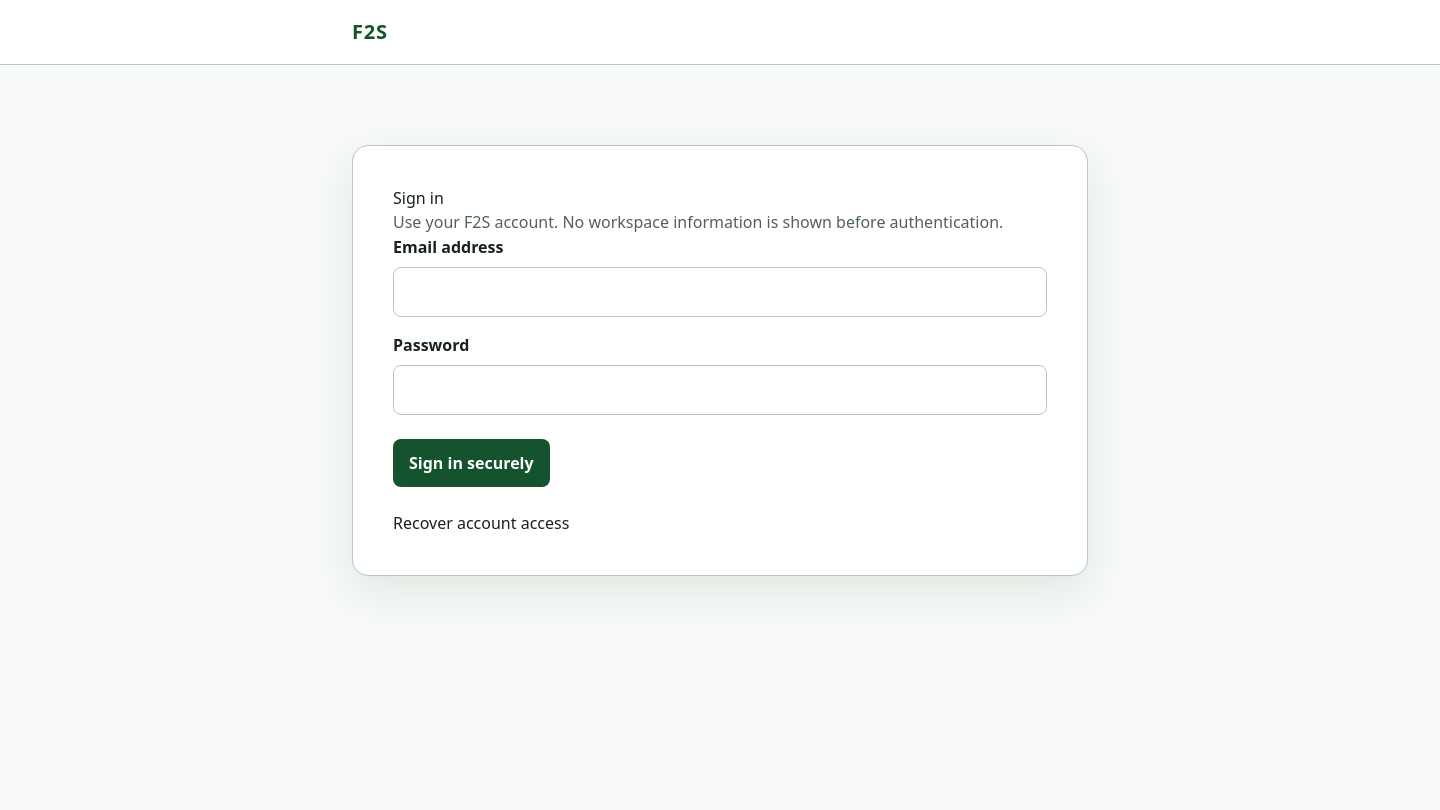
Test case: authentication and protected routing › does not expose restricted Admin or report navigation to a Contributor
Type "member@example.invalid" into the field labelled "Email address".
click(720, 292); type("member@example.invalid")  # box left=393, top=267, right=1047, bottom=317
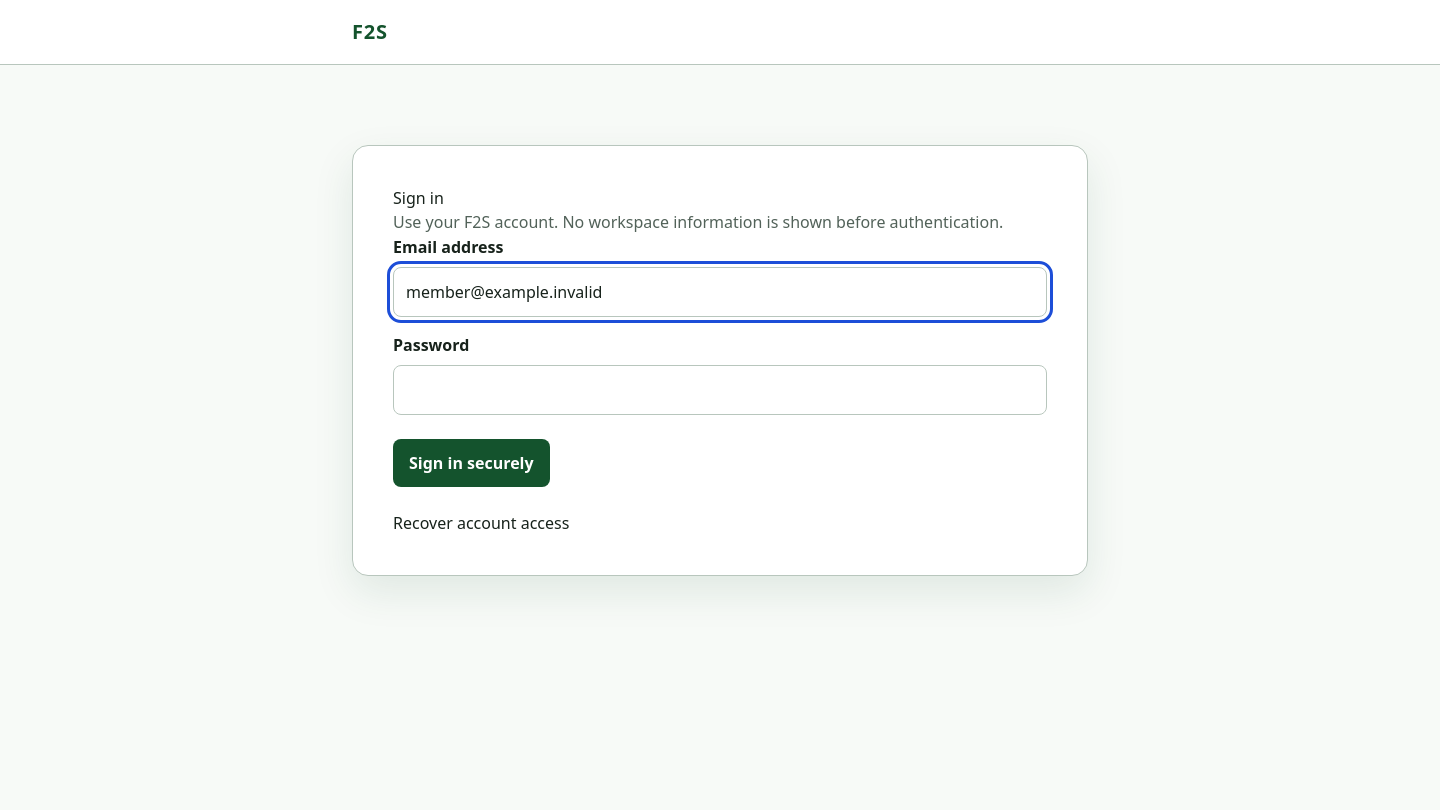
Type "synthetic-password-value" into the password field labelled "Password".
click(720, 390); type("synthetic-password-value")  # box left=393, top=365, right=1047, bottom=415
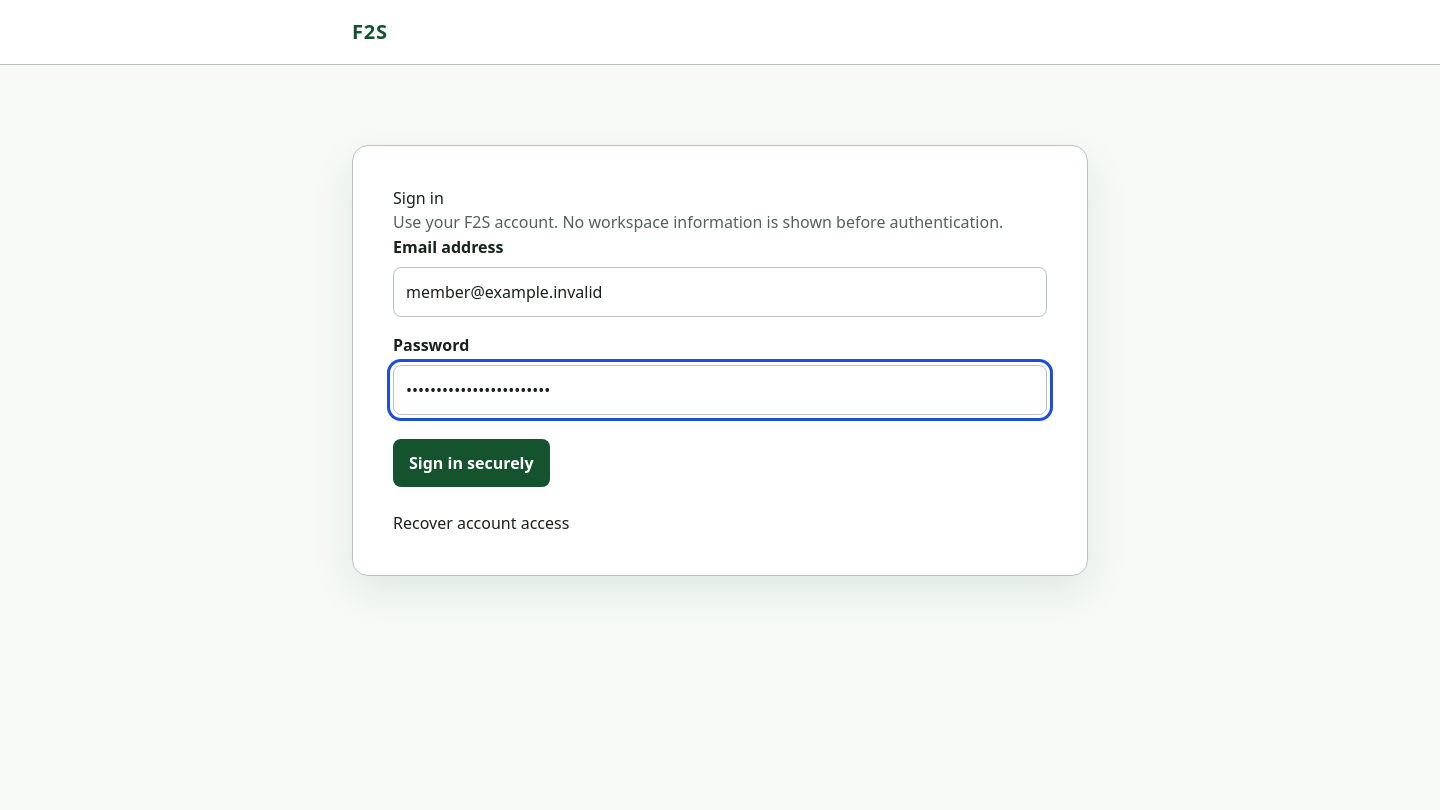
Click the button "Sign in securely".
click(471, 463)  # box left=393, top=439, right=550, bottom=487
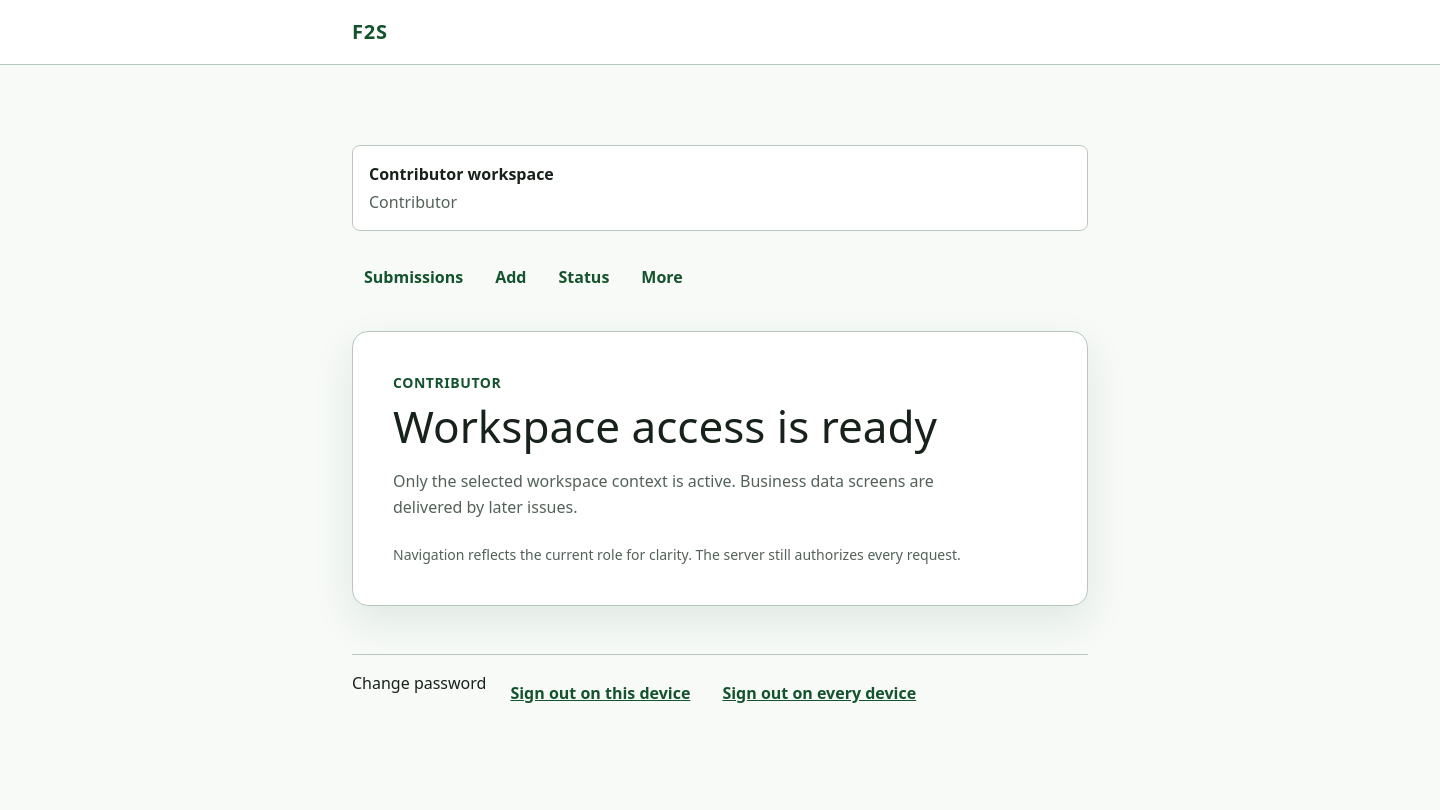
Expected: the navigation bar named "Workspace navigation" does not show "Reports", left=364, top=266, right=683, bottom=288
Now the navigation bar named "Workspace navigation" shows "Submissions", box left=352, top=255, right=475, bottom=299
